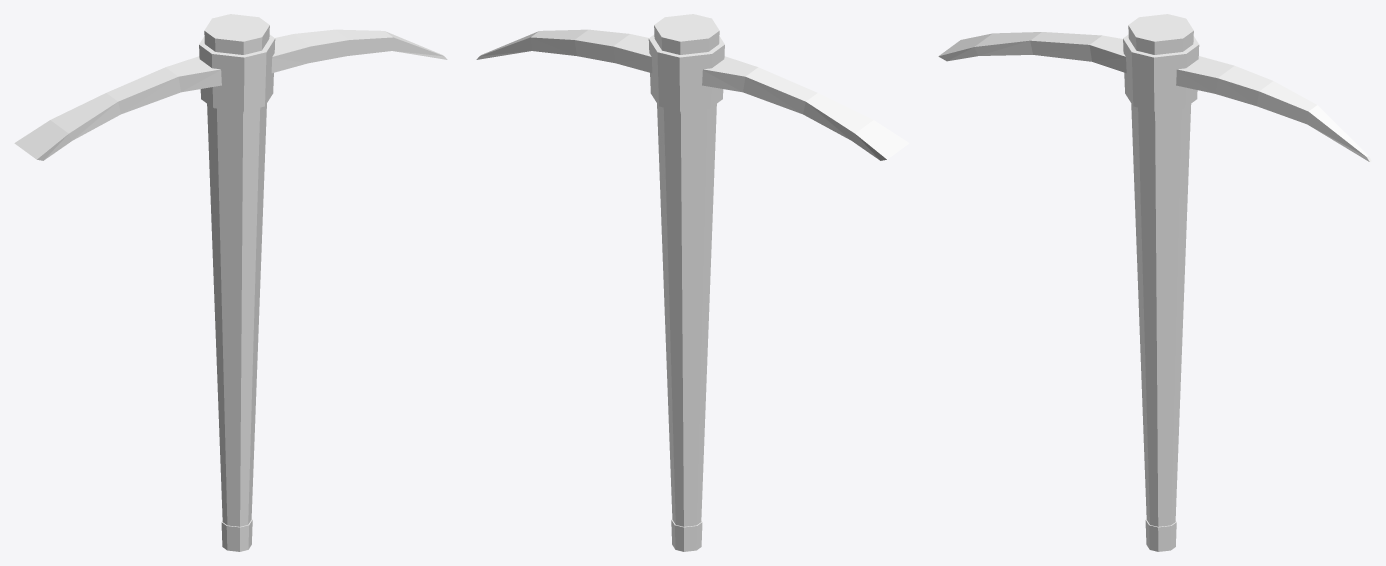
File: Tool_Pickaxe_02.glb
3 renders of one model, left to right at view 1: azimuth 30°, elevation 25°; view 2: azimuth 150°, elevation 25°; view 3: azimuth 330°, elevation 25°, orthographic.
Parts seen in each view (by area): view 1: Tool_Pickaxe_02; view 2: Tool_Pickaxe_02; view 3: Tool_Pickaxe_02.
Boxes of the visible parts, x1,y1,x2,y2 form: Tool_Pickaxe_02: (14,14,447,551); Tool_Pickaxe_02: (476,14,909,551); Tool_Pickaxe_02: (938,14,1371,551).
Size of the model in its own units: 0.7392 by 0.8682 by 0.1113.
1 material, 1 textured.
